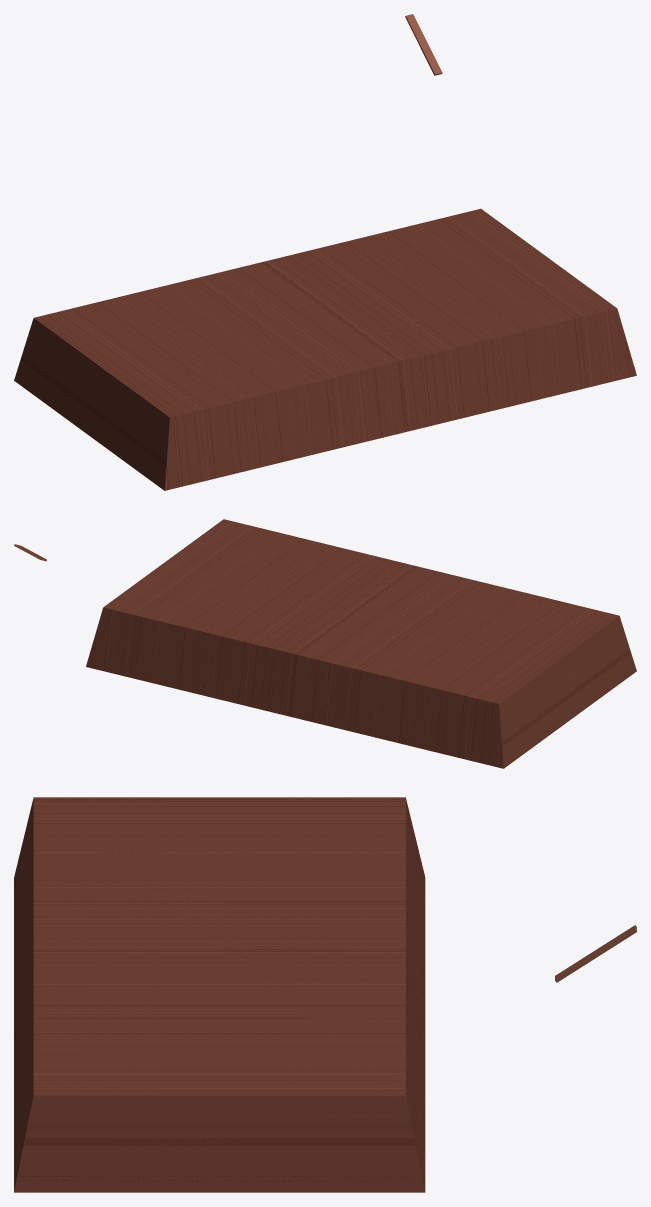
File: Salon_Dem_TuaDai_LatMat_DayTuot.glb
The picture shows the model from 3 angles, top to bottom: view 1: azimuth 30°, elevation 25°; view 2: azimuth 150°, elevation 25°; view 3: azimuth 270°, elevation 25°; orthographic projection. The views are drawn at different scales.
Visible parts, largest first — view 1: geometry_0; view 2: geometry_0; view 3: geometry_0.
Boxes of the visible parts, x1,y1,x2,y2 form: geometry_0: [14, 14, 636, 490]; geometry_0: [14, 519, 636, 768]; geometry_0: [14, 797, 636, 1192].
Bounding box in the file's own units: 0.766 × 0.2987 × 0.636.
Materials: 1 (1 with a texture image).
